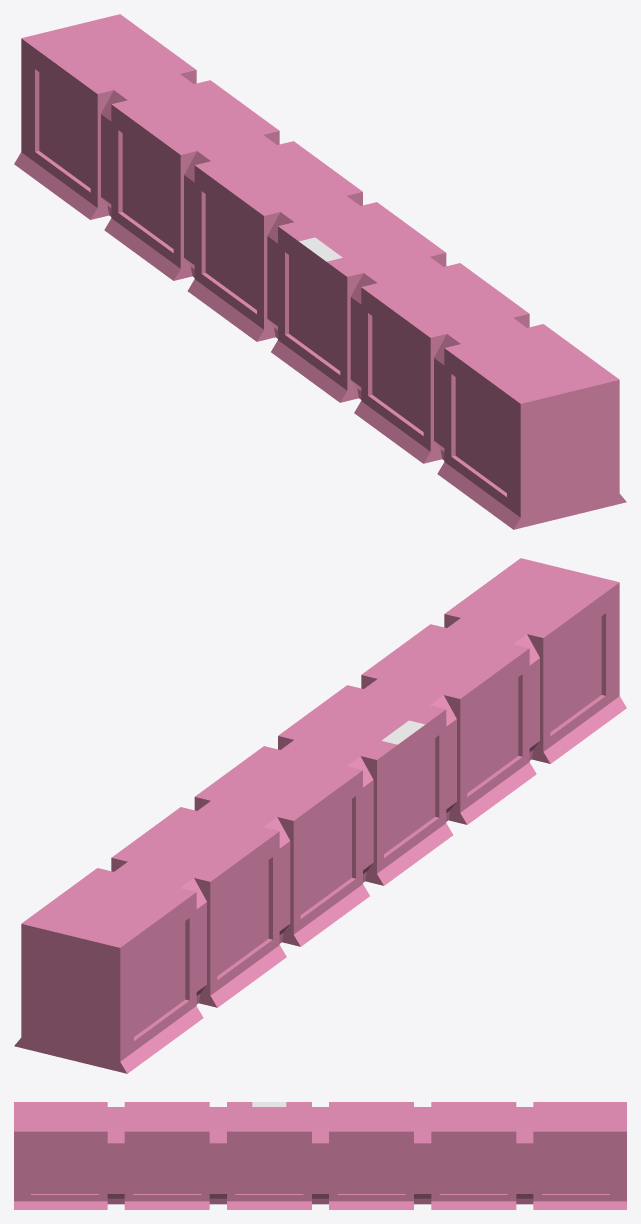
The model's file is gate_wall.fbx.
3 views of the same model, one above another, from view 1: azimuth 30°, elevation 25°; view 2: azimuth 150°, elevation 25°; view 3: azimuth 270°, elevation 25° (orthographic). The views are drawn at different scales.
Visible parts, largest first — view 1: PM3D_Cylinder3D_7; view 2: PM3D_Cylinder3D_7; view 3: PM3D_Cylinder3D_7.
Boxes of the visible parts, box(x1,y1,x2,y2) form: PM3D_Cylinder3D_7: box(14, 14, 626, 529); PM3D_Cylinder3D_7: box(14, 558, 626, 1073); PM3D_Cylinder3D_7: box(14, 1102, 626, 1209).
Bounding box in the file's own units: 0.5243 × 0.5485 × 4.
